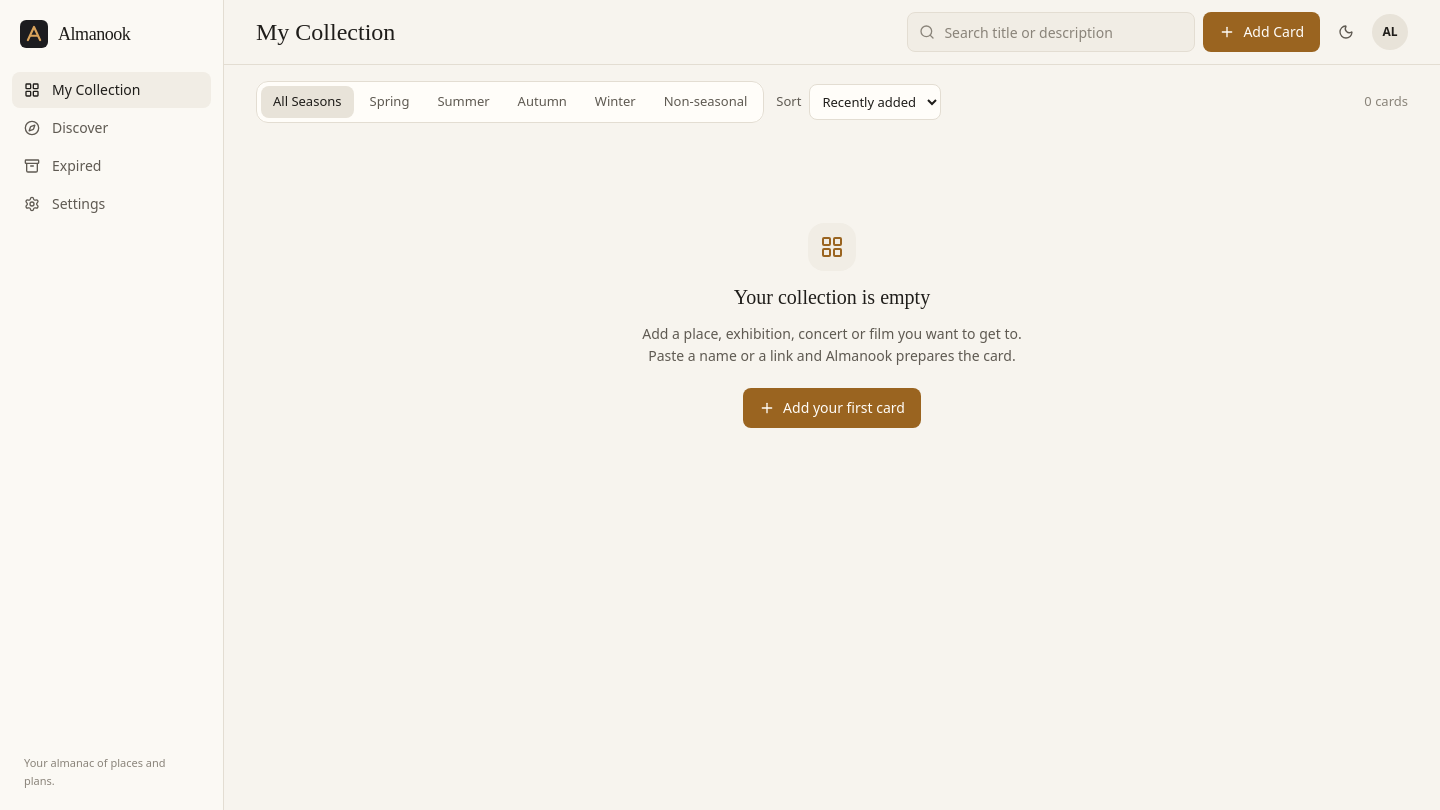
Scenario: Add Card › generates a draft, shows provenance and unverified fields, and saves edits as user input
Click the button "Add Card" at (1262, 32), box x1=1203 y1=12 x2=1320 y2=52
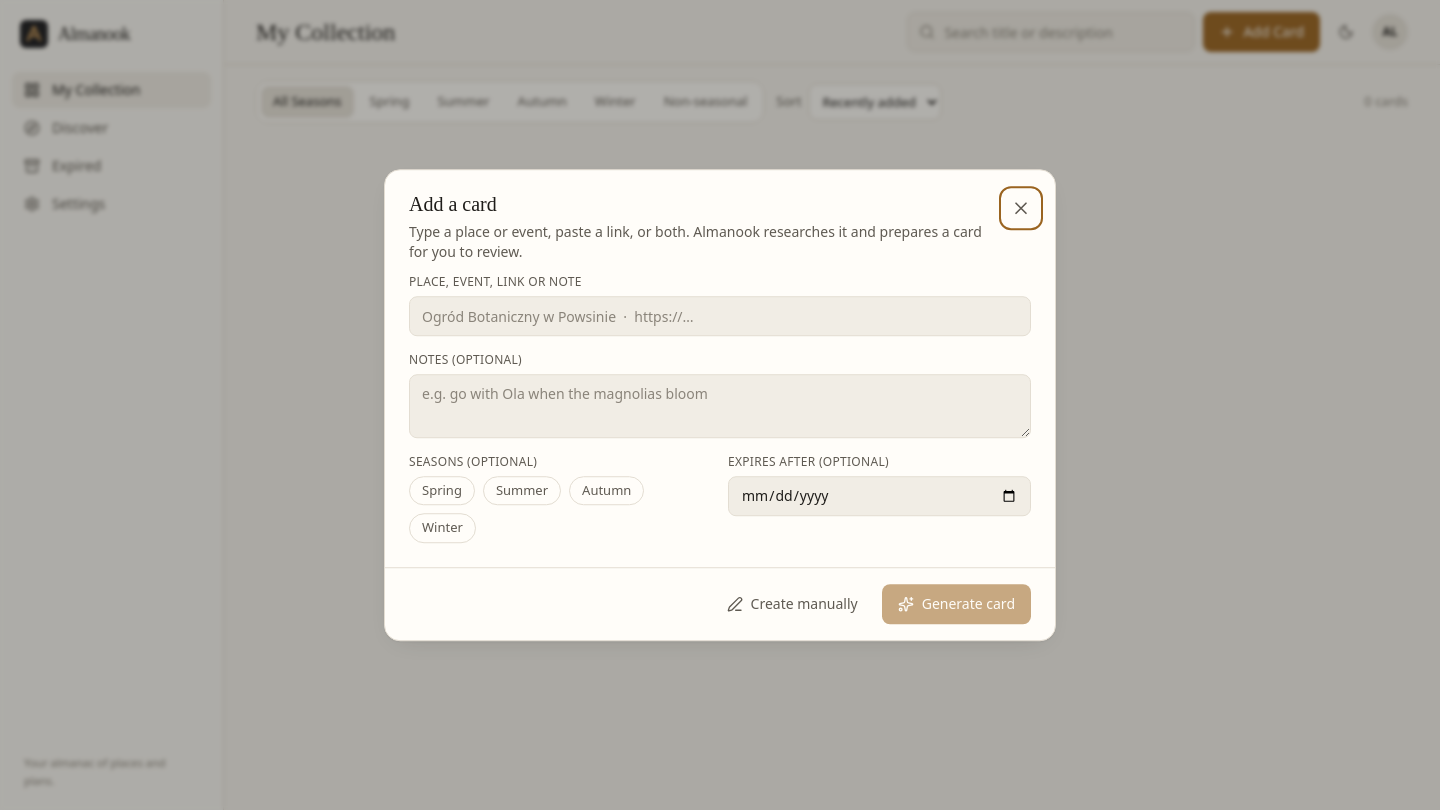
Type "Ogród Botaniczny w Powsinie" into the field labelled "Place, event, link or note" at (720, 316), box x1=409 y1=296 x2=1031 y2=336
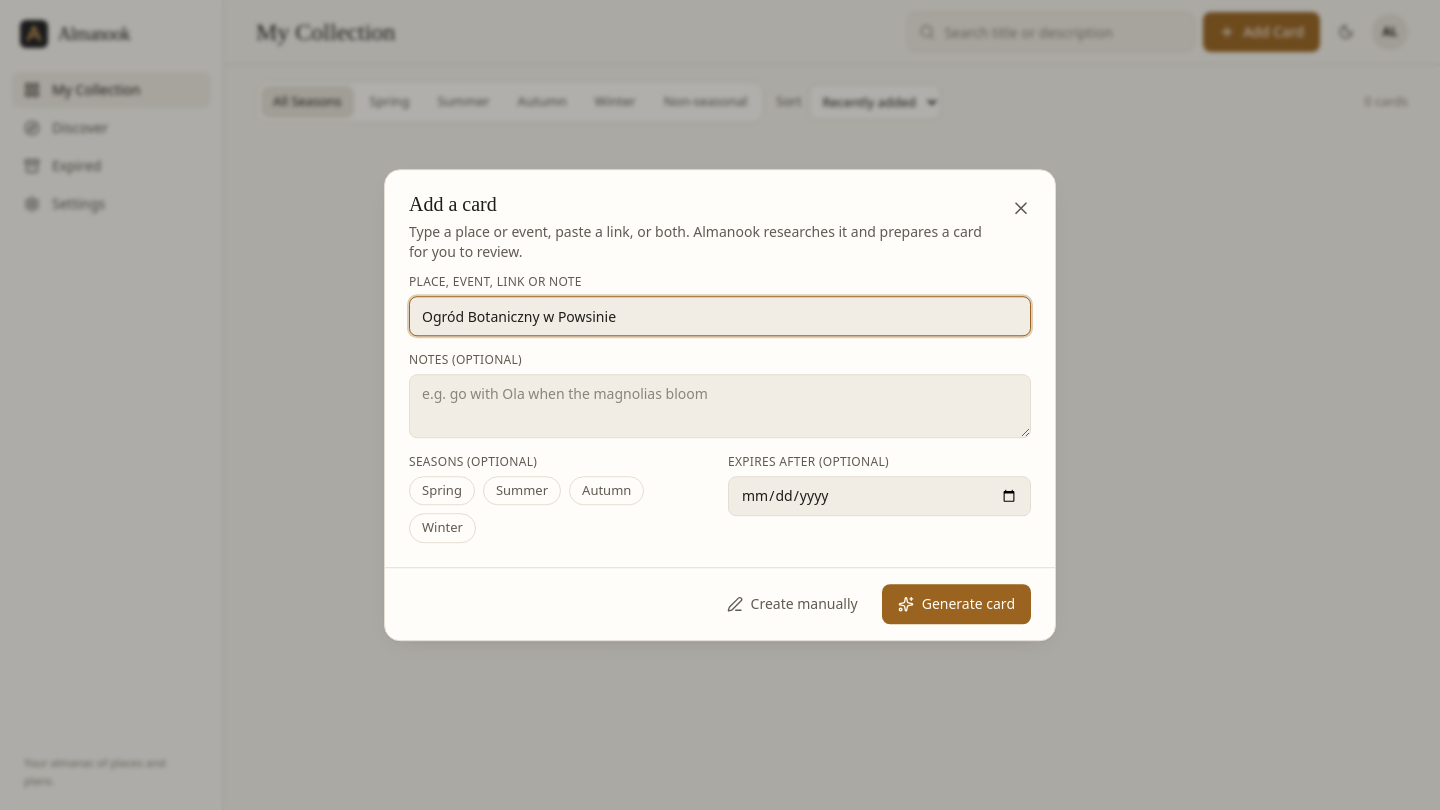
Click the button "Spring" at (442, 491), box x1=409 y1=476 x2=475 y2=505
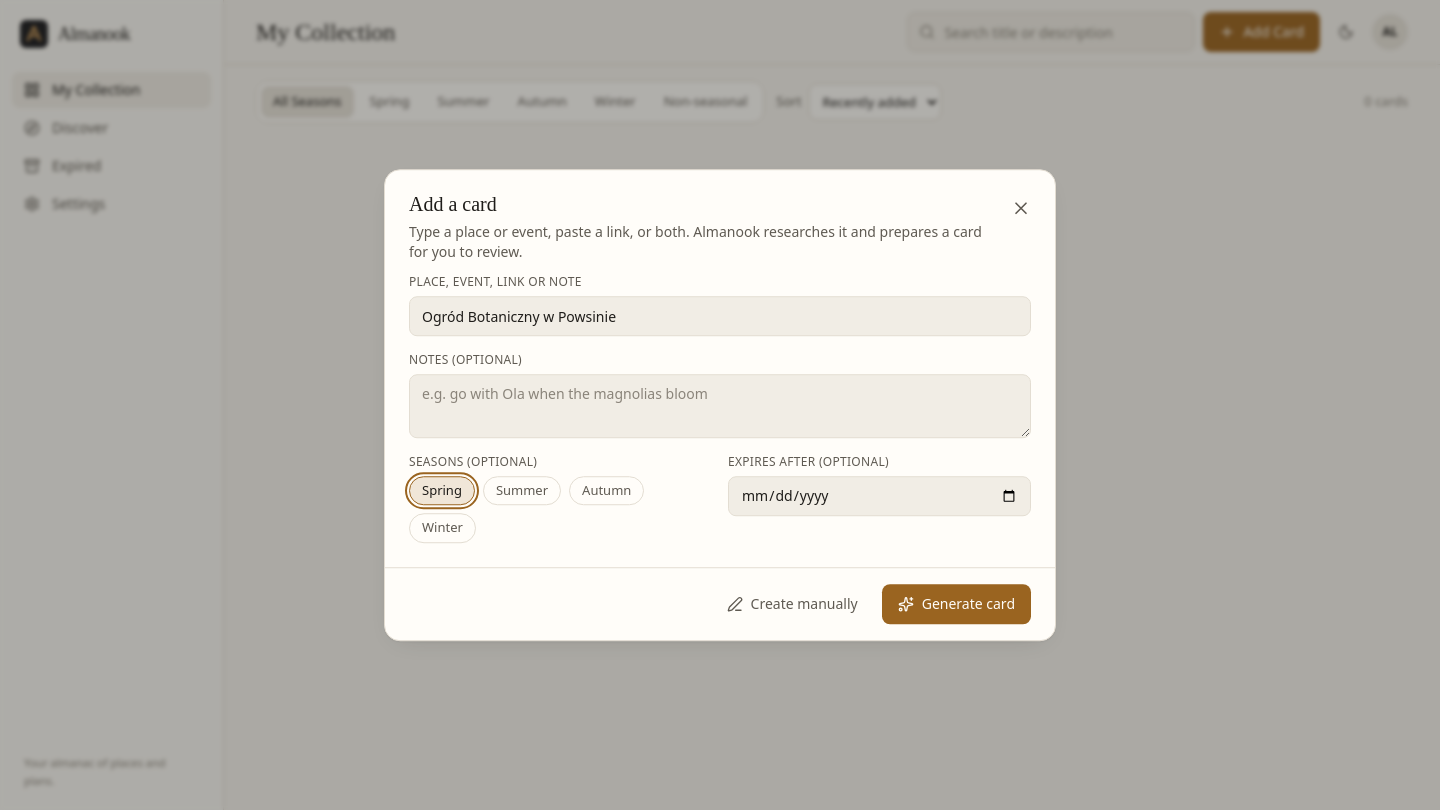
Click the button "Generate card" at (956, 604), box x1=882 y1=584 x2=1031 y2=624
(page scrolled)
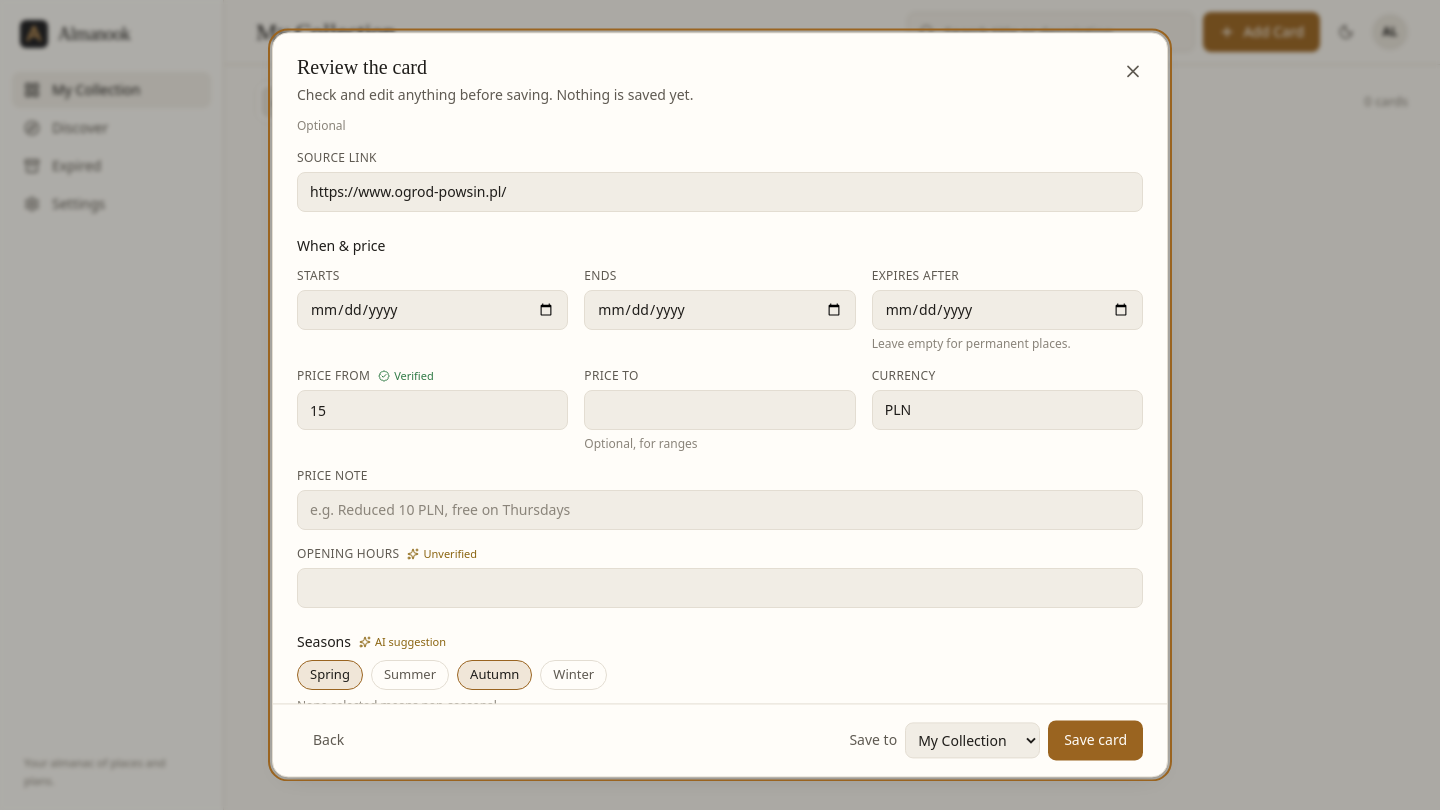
Expected: the text "Verified" is shown, x1=378 y1=368 x2=434 y2=385
Replace the text in the field labelled "Price from" with "18" at (433, 411), box x1=297 y1=391 x2=568 y2=431
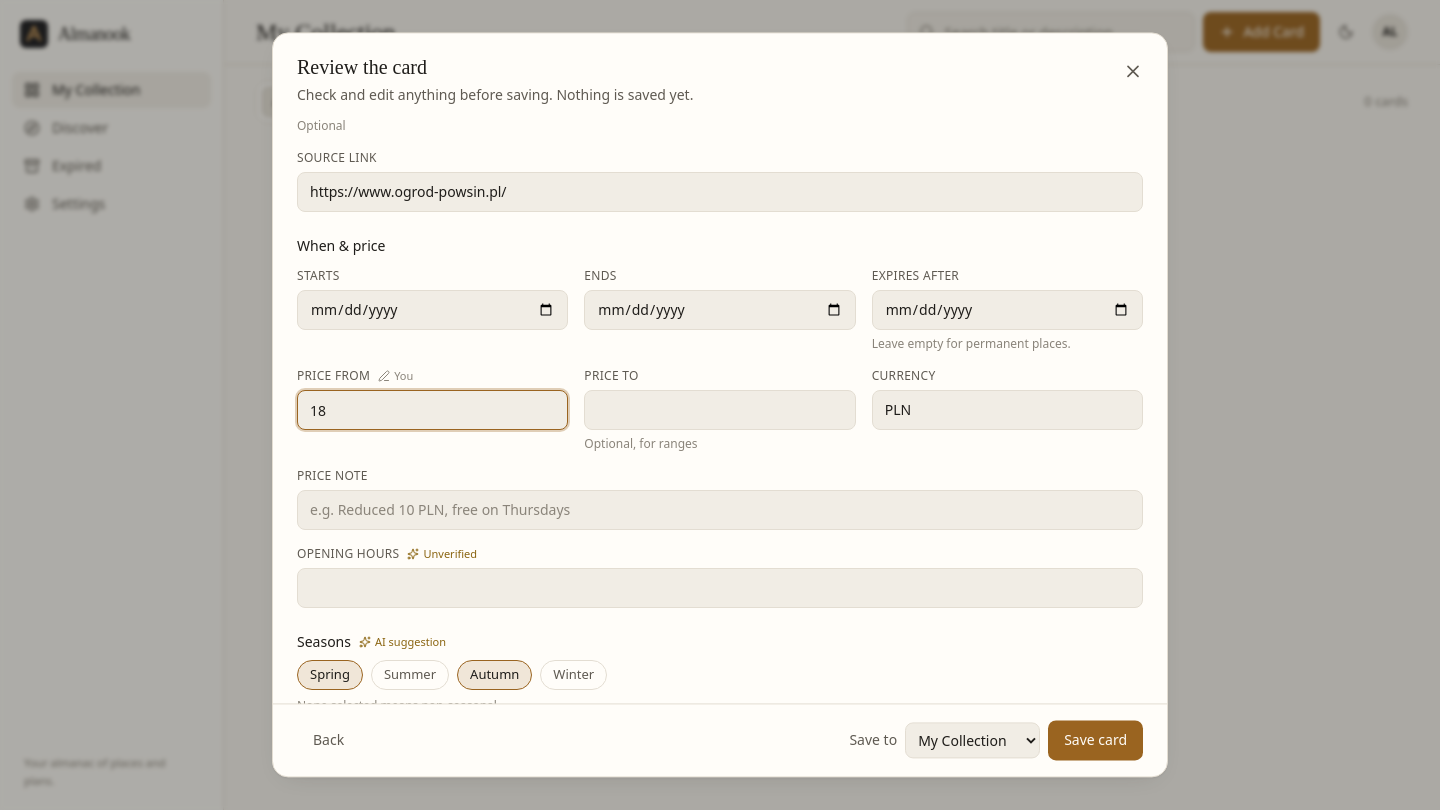
Click the button "Save card" at (1096, 741), box x1=1048 y1=721 x2=1143 y2=761
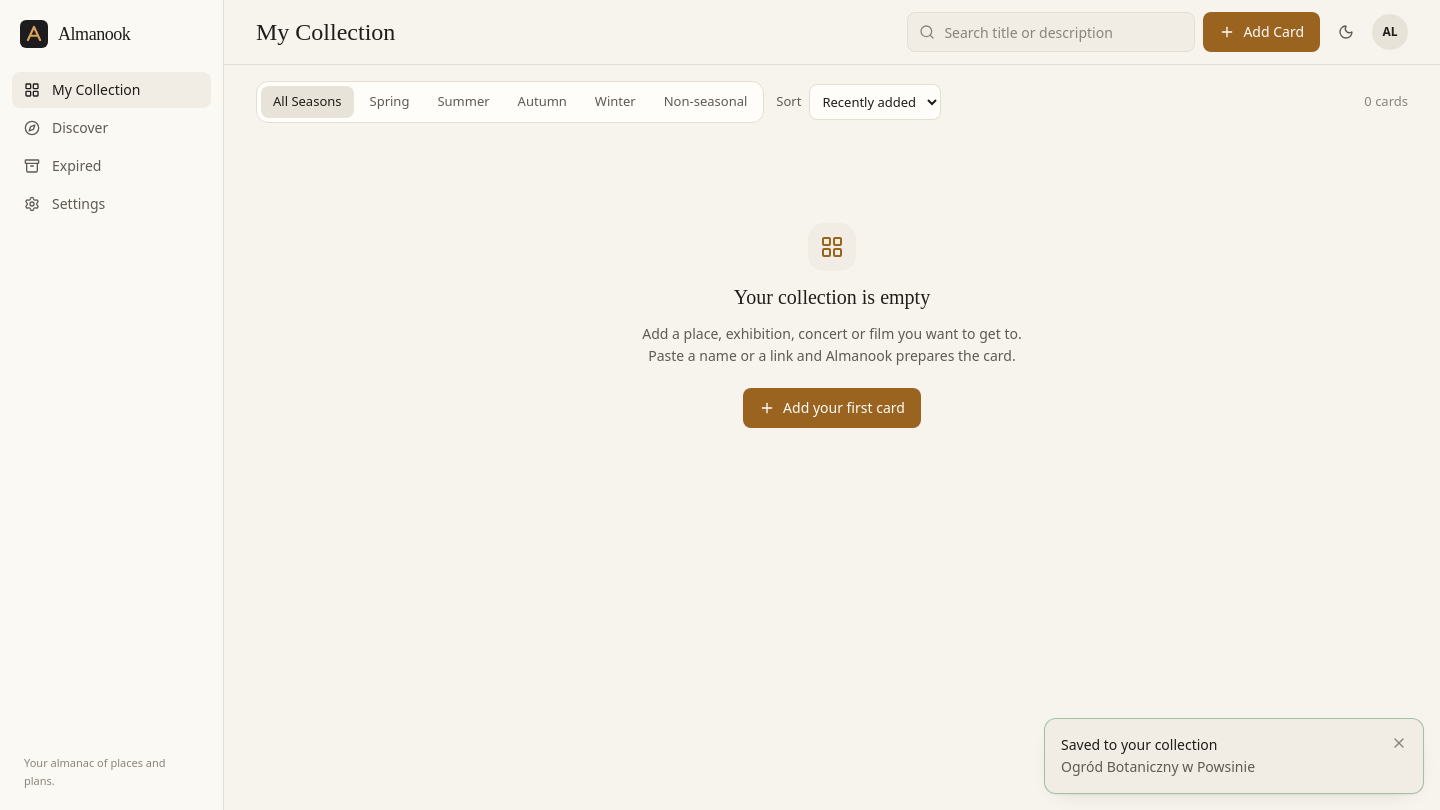
Expected: the text "Ogród Botaniczny w Powsinie" is shown, x1=1061 y1=757 x2=1255 y2=776
